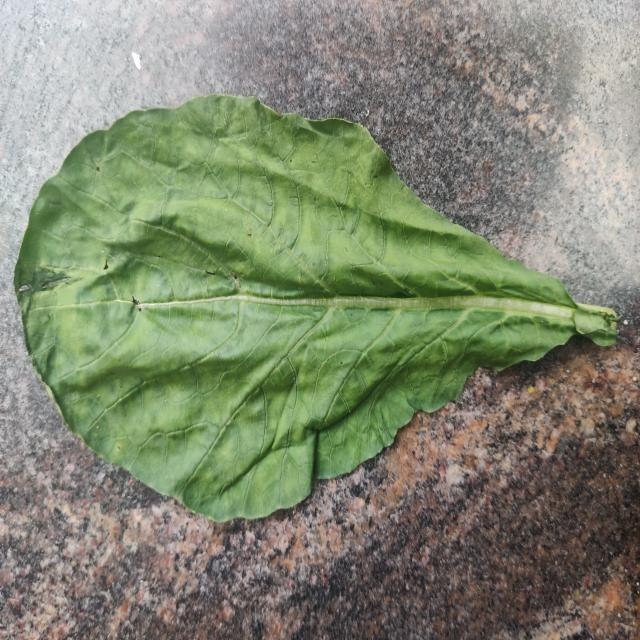leaf: (12, 92, 620, 523)
